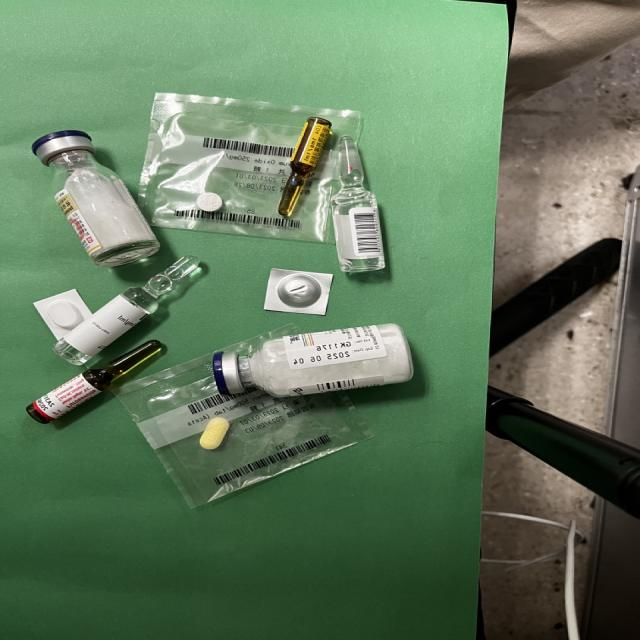Ampoules: (54, 256, 201, 366), (27, 340, 162, 424), (331, 136, 385, 274), (279, 116, 331, 216)
Vials: (33, 130, 160, 268), (214, 324, 413, 397)
